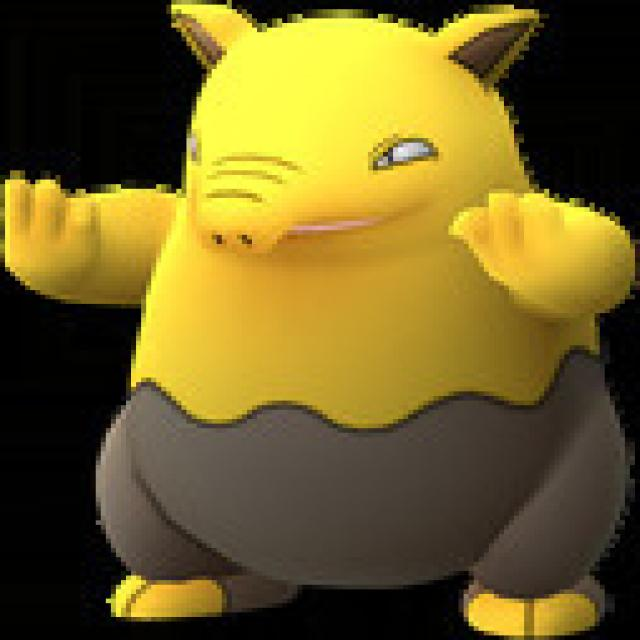Drowzee: (6, 0, 628, 633)
